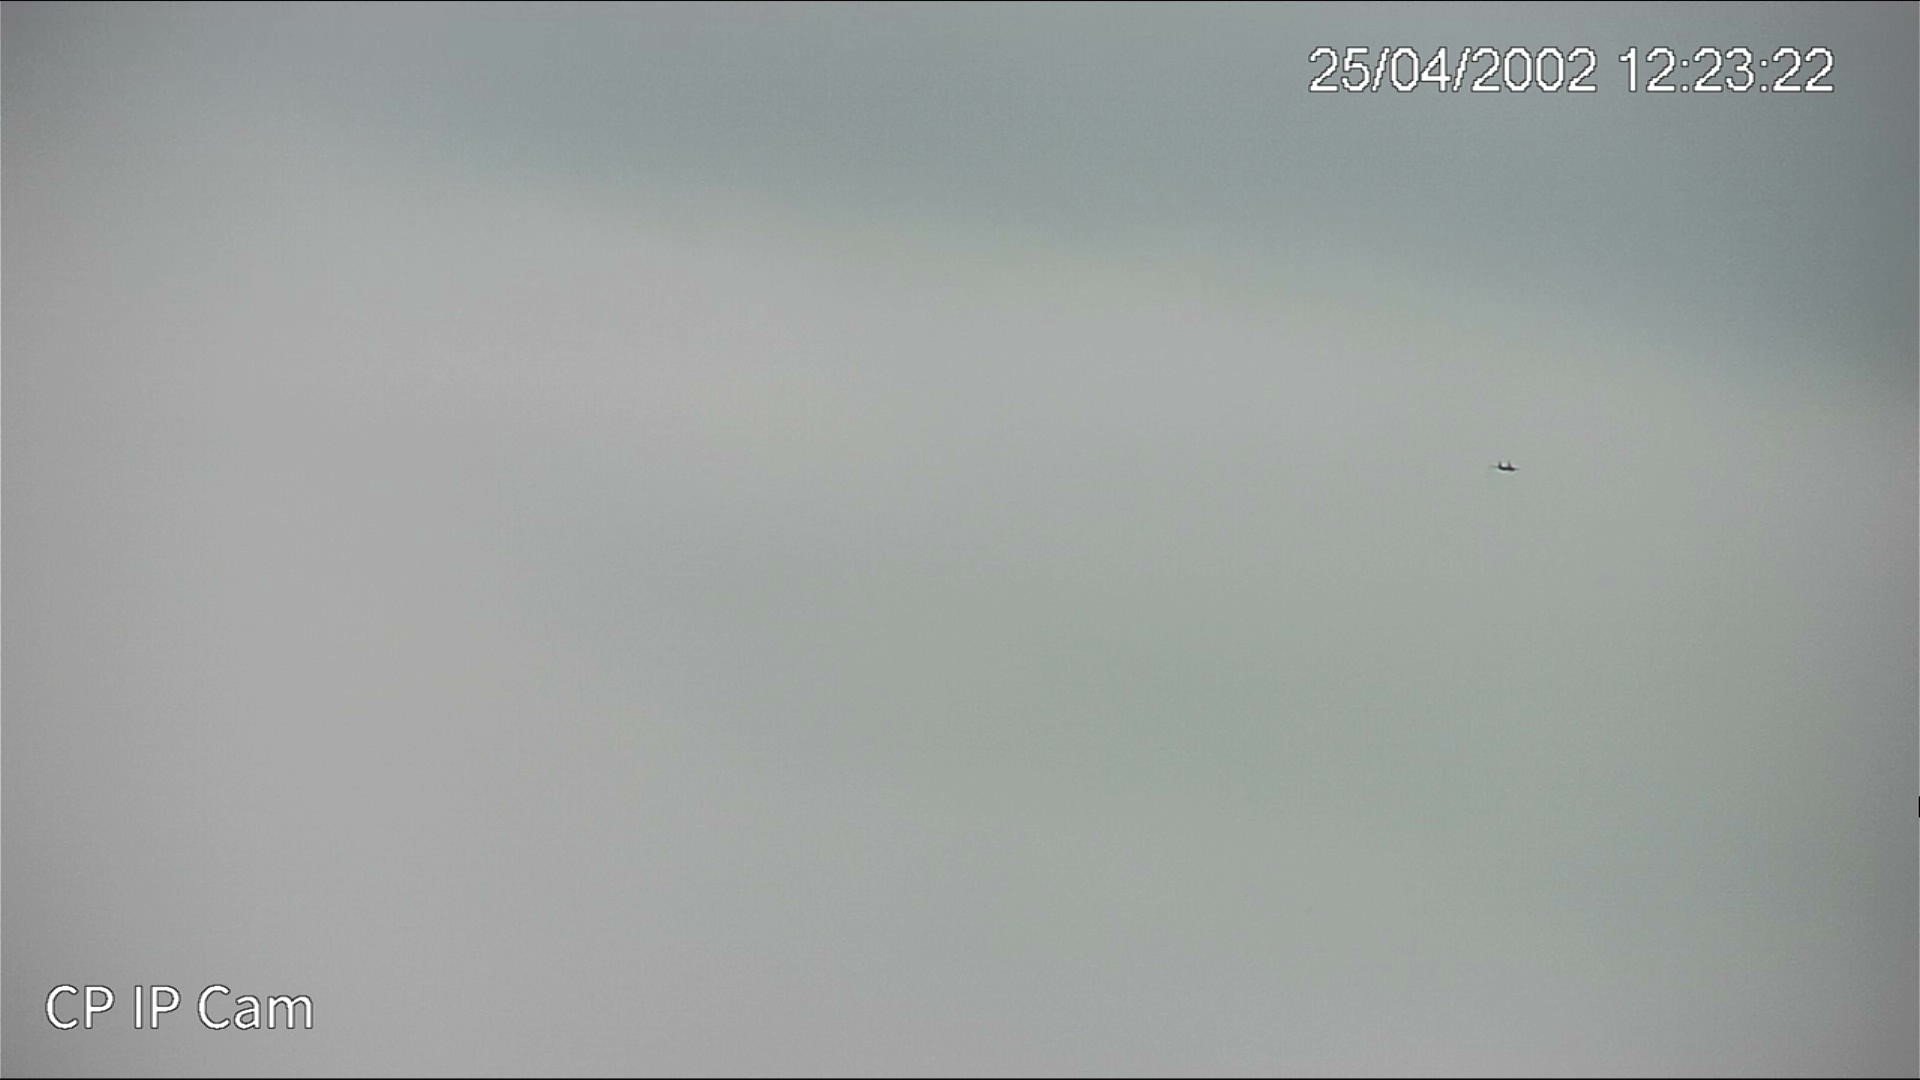SU_30: (1487, 459, 1520, 473)
